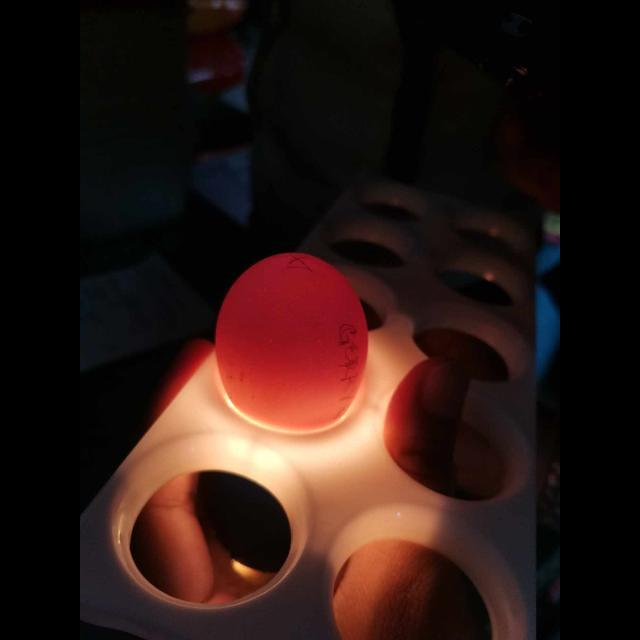Infertile: (215, 253, 365, 425)
